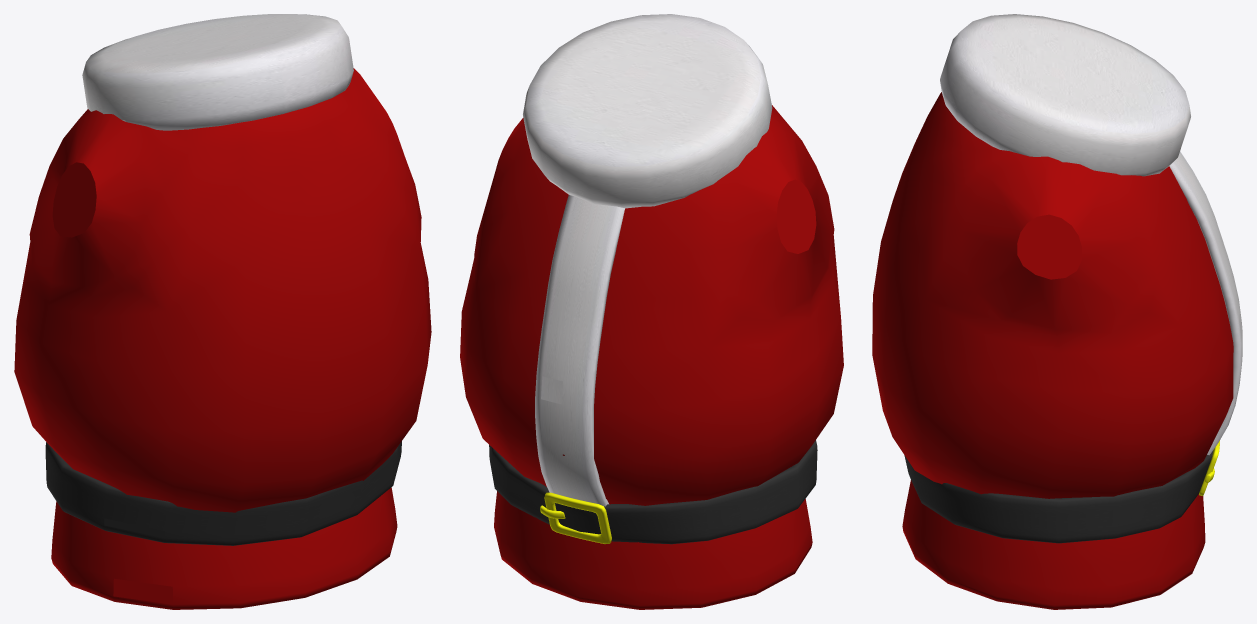
File: bodySanta.obj
3 renders of one model, left to right at view 1: azimuth 30°, elevation 25°; view 2: azimuth 150°, elevation 25°; view 3: azimuth 270°, elevation 25°, orthographic. The views are drawn at different scales.
Visible parts, largest first — view 1: bodySanta:polySurface31; view 2: bodySanta:polySurface31; view 3: bodySanta:polySurface31.
Part boxes in pixels (<box>): bodySanta:polySurface31: <box>14,14,431,609</box>; bodySanta:polySurface31: <box>460,14,843,609</box>; bodySanta:polySurface31: <box>872,14,1242,609</box>.
Bounding box in the file's own units: 3.95 × 5.57 × 3.7.
5 materials, 5 textured.
